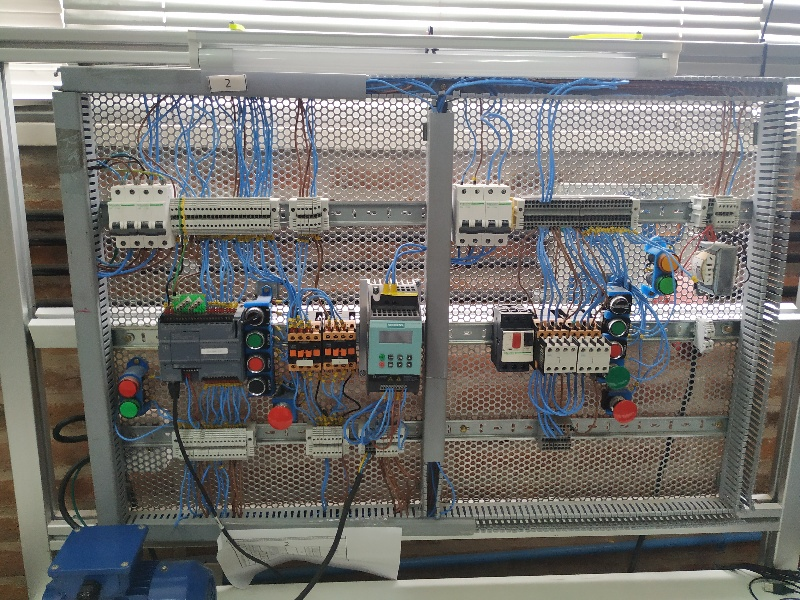Tablero 2: (87, 85, 763, 511)
